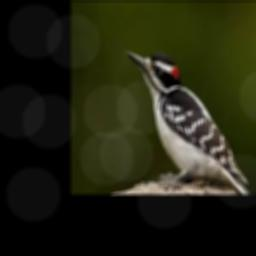Woodpecker: (126, 50, 251, 195)
